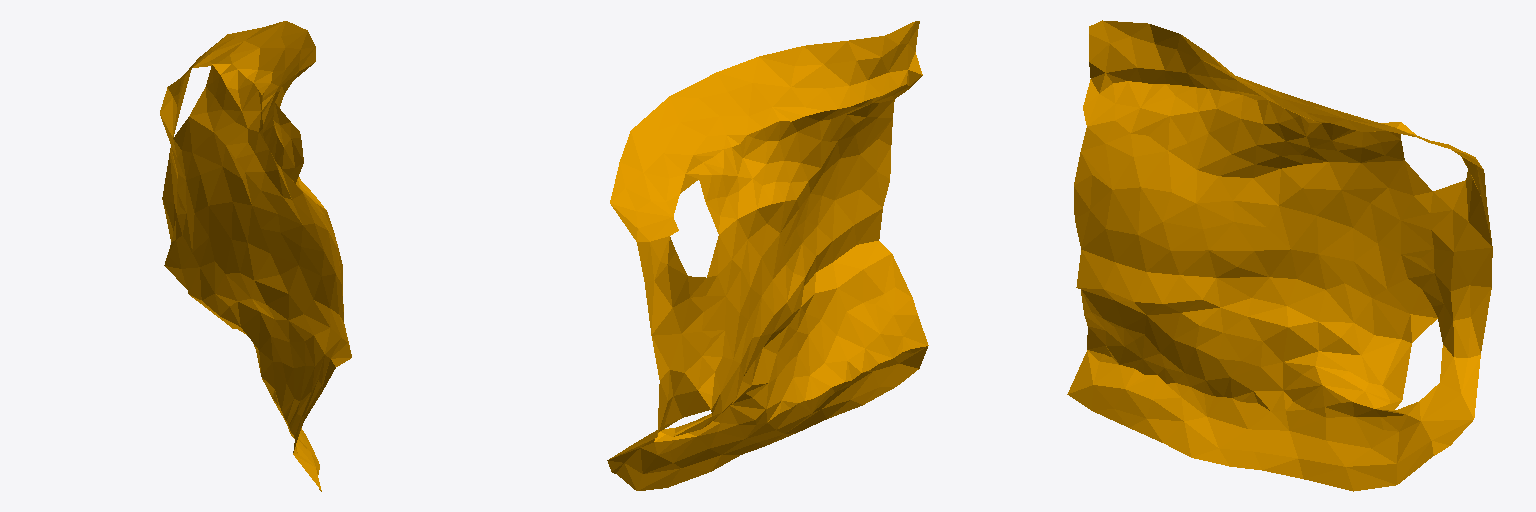
The robot description file, URDF, robot "init":
<?xml version='1.0' encoding='utf-8'?>
<robot name="init">
<link name="link_0"><inertial><mass value="1.0" /><origin rpy="0 0 0" xyz="0.000000 0.000000 0.000000" /><inertia ixx="1.0" ixy="0.0" ixz="0.0" iyy="1.0" iyz="0.0" izz="1.0" /></inertial><visual><origin rpy="0 0 0" xyz="0.000000 0.000000 0.000000" /><geometry><mesh filename="./clothHuman/cloth/2371.obj" /></geometry></visual><collision><origin rpy="0 0 0" xyz="0.000000 0.000000 0.000000" /><geometry><mesh filename="./clothHuman/cloth/2371.obj" /></geometry></collision></link></robot>

--- What the picture shows (computed from the rendered views, not written in the file) ---
3 views of the same robot in one strip: view 1: azimuth 30°, elevation 25°; view 2: azimuth 150°, elevation 25°; view 3: azimuth 270°, elevation 25° (orthographic).
Model init with 1 links and 0 joints (none), rooted at link_0, posed all joints at 0.
Visible links, largest first — view 1: link_0; view 2: link_0; view 3: link_0.
Boxes of the visible links, x1=… form: link_0: x1=160, y1=21, x2=351, y2=491; link_0: x1=607, y1=21, x2=928, y2=490; link_0: x1=1067, y1=20, x2=1492, y2=491.
Bounding box of the posed robot: 1.51 × 3.8 × 4.05 m (x, y, z).
1 mesh visuals loaded from 1 distinct referenced files (1 OBJ).